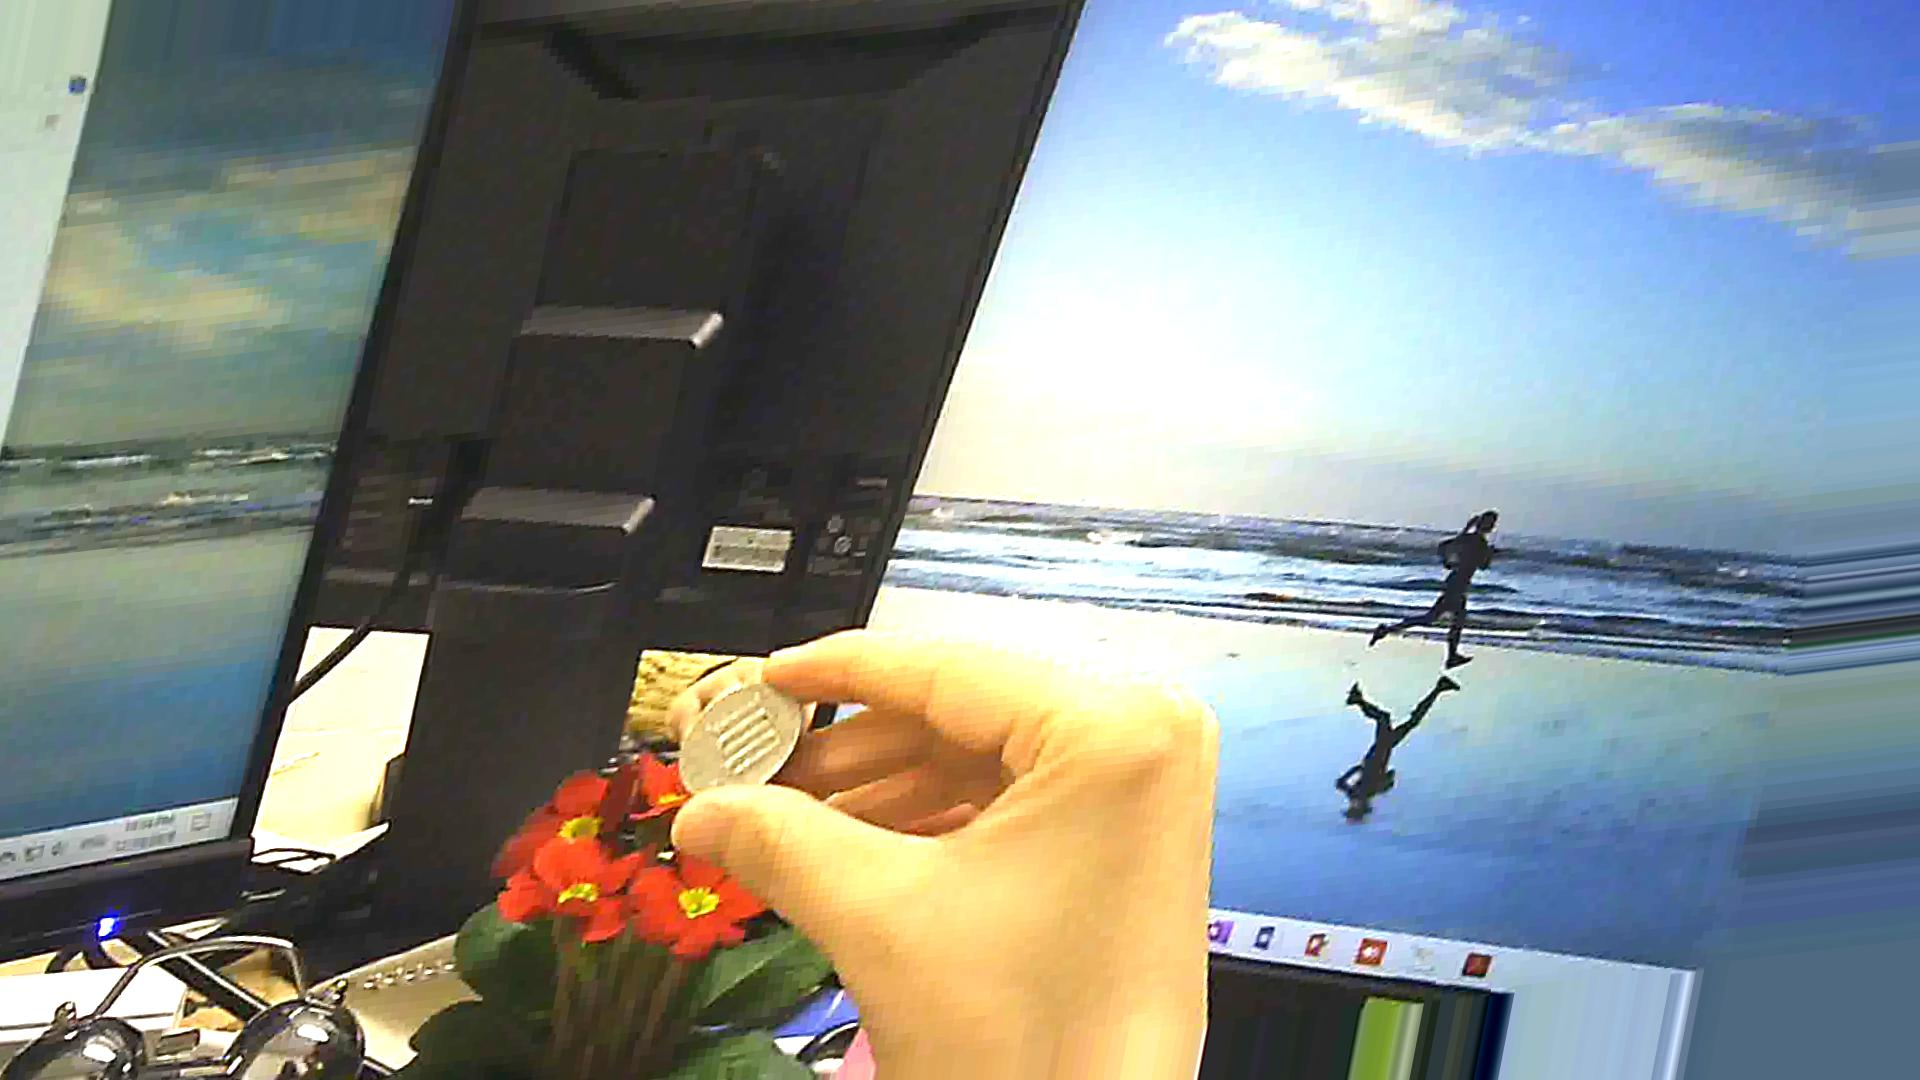100 Yen: (669, 684, 828, 799)
